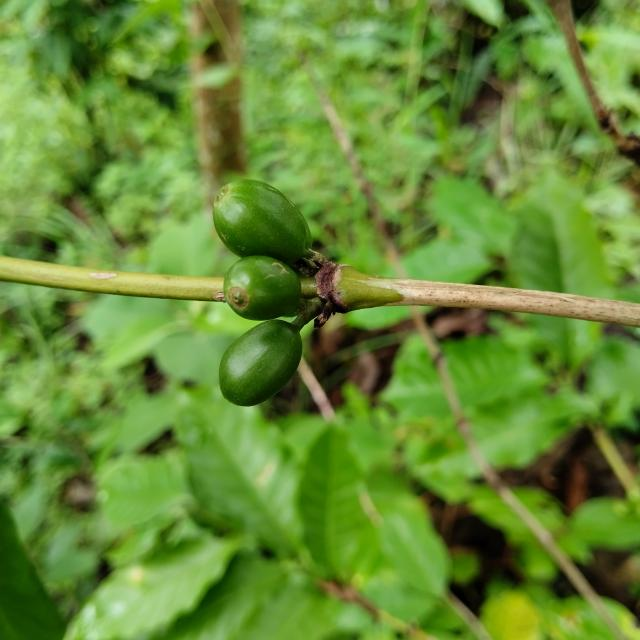green: (213, 179, 312, 265), (219, 320, 302, 407), (223, 255, 301, 321)
